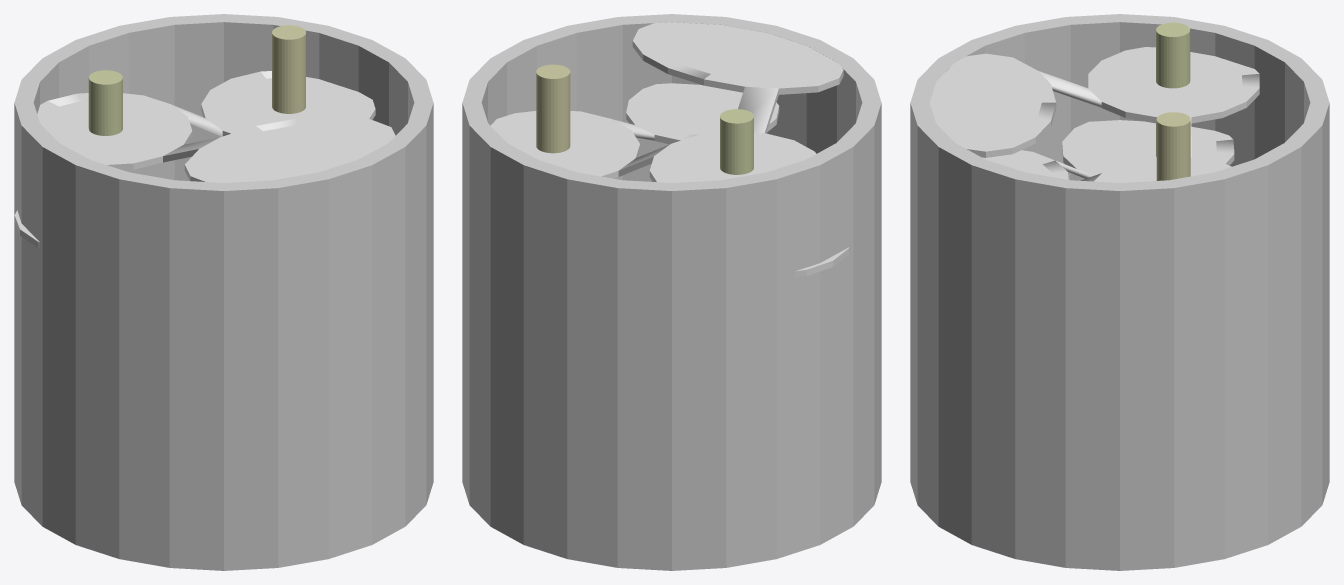
Rendered from FactoryV2.fbx.
3 renders of one model, left to right at view 1: azimuth 30°, elevation 25°; view 2: azimuth 150°, elevation 25°; view 3: azimuth 270°, elevation 25°, orthographic.
Parts seen in each view (by area): view 1: Cylinder, OuterCircle4.002, Cylinder.002, Cylinder.001; view 2: Cylinder, OuterCircle4.002, Cylinder.002, Cylinder.001; view 3: Cylinder, OuterCircle4.002, Cylinder.002, Cylinder.001.
Part boxes in pixels (x1,y1,x2,y2): Cylinder: (14, 14, 433, 570); OuterCircle4.002: (14, 71, 395, 248); Cylinder.002: (272, 25, 305, 113); Cylinder.001: (88, 70, 122, 135); Cylinder: (462, 14, 881, 570); OuterCircle4.002: (490, 22, 849, 277); Cylinder.002: (536, 64, 570, 153); Cylinder.001: (720, 109, 753, 174); Cylinder: (910, 14, 1329, 570); OuterCircle4.002: (929, 47, 1259, 182); Cylinder.002: (1156, 112, 1190, 180); Cylinder.001: (1156, 22, 1190, 156).
Bounding box in the file's own units: 12035 × 12908 × 12000.
